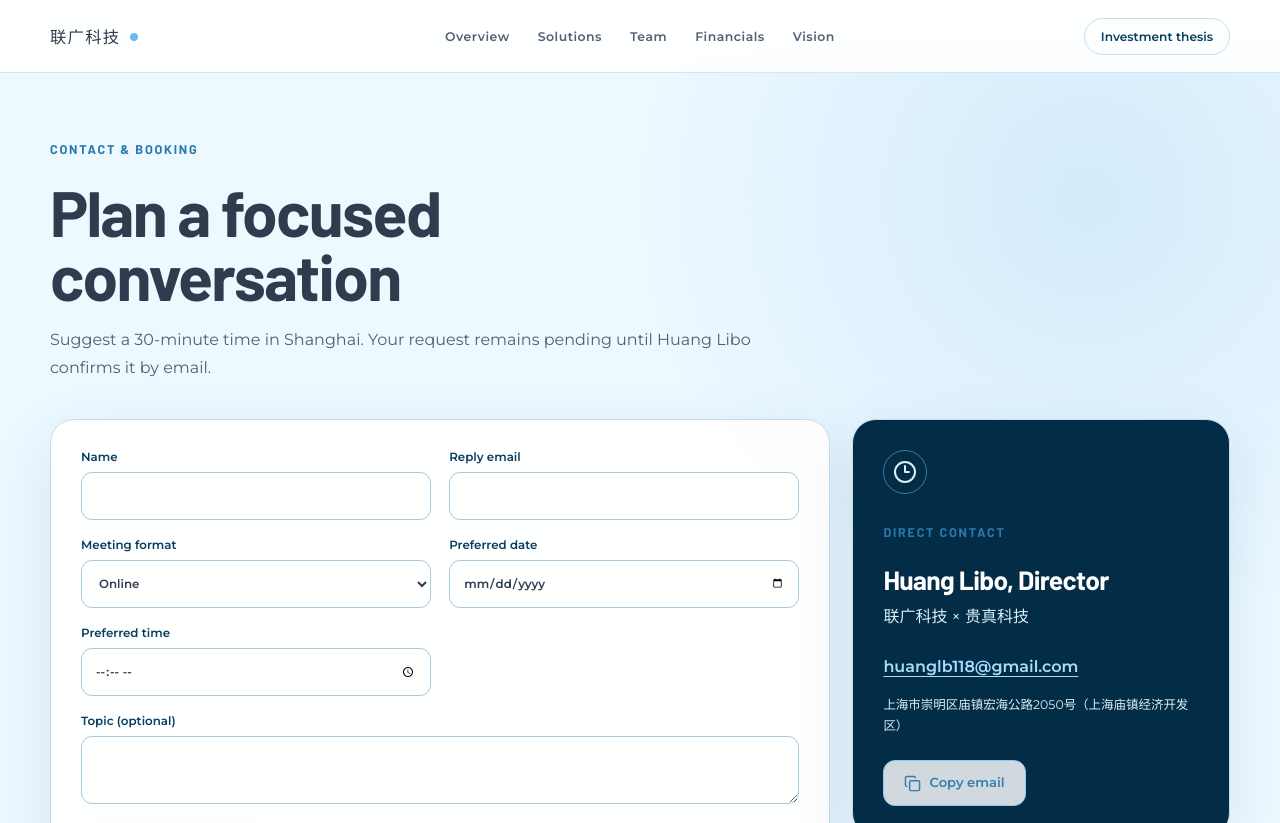
Scenario: site interactions › reports that an email handoff remains pending confirmation
The width and height of the screenshot is (1280, 823).
(page scrolled)
In the field labelled "Name": (256, 496) [81, 472, 431, 520], type "Ada Lovelace"
In the field labelled "Reply email": (624, 496) [449, 472, 799, 520], type "ada@example.com"
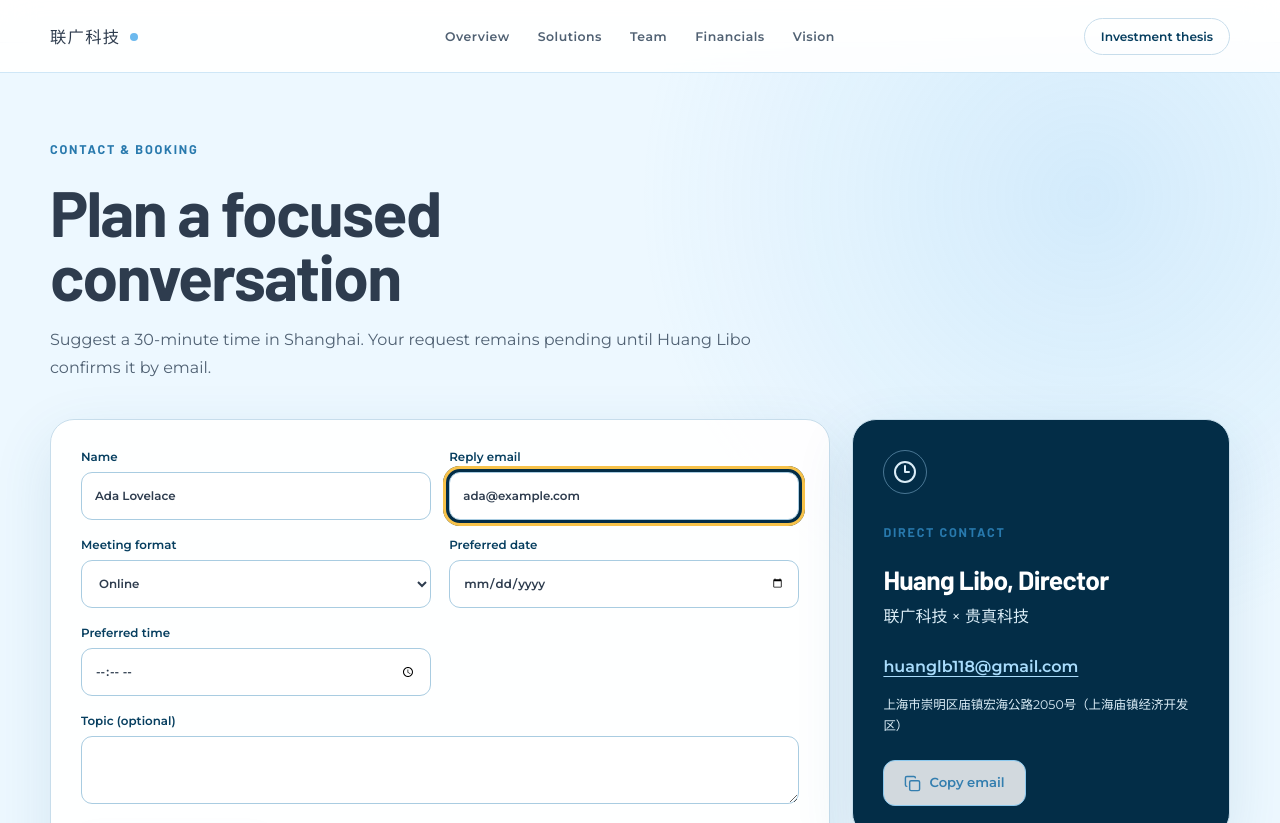
Select "In person · Shanghai Chongming" in the dropdown labelled "Meeting format": (256, 584) [81, 560, 431, 608]
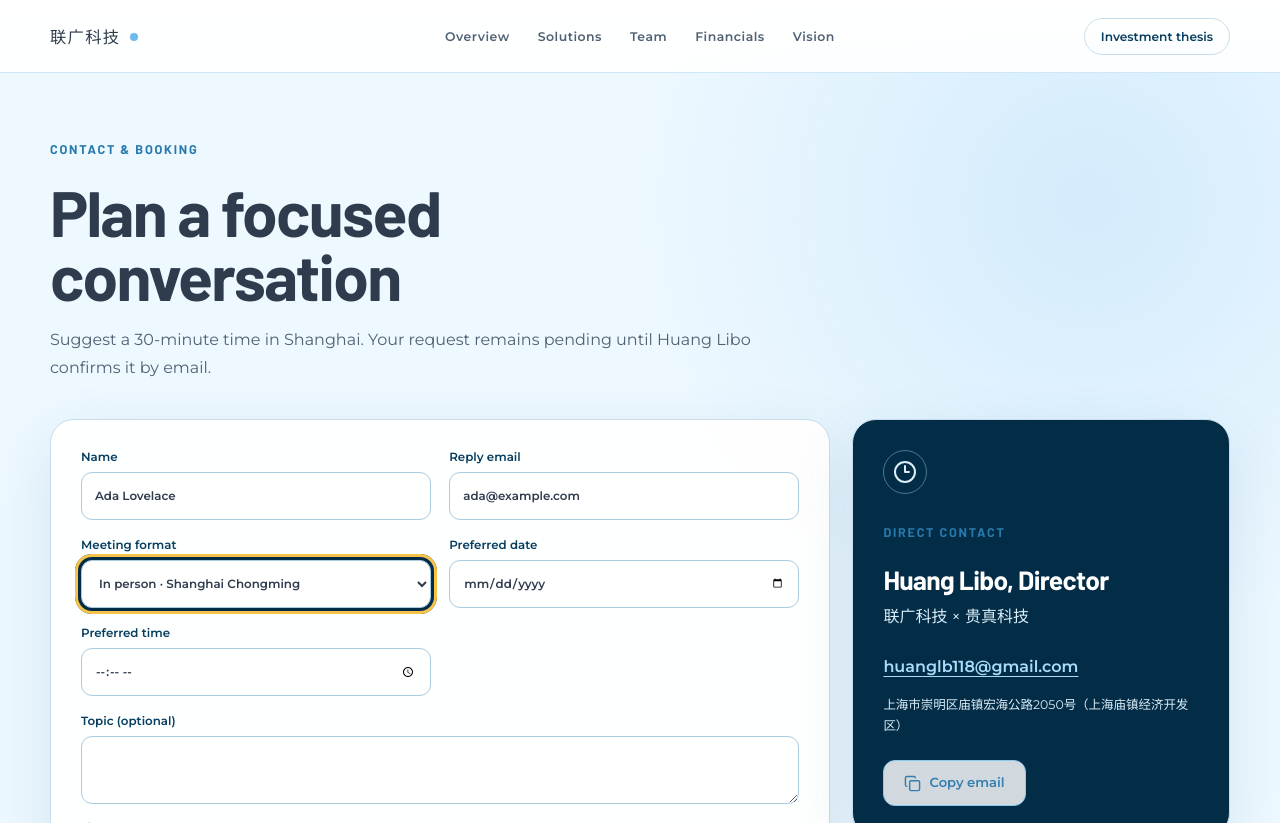
In the date field labelled "Preferred date": (624, 584) [449, 560, 799, 608], type "2099-08-20"
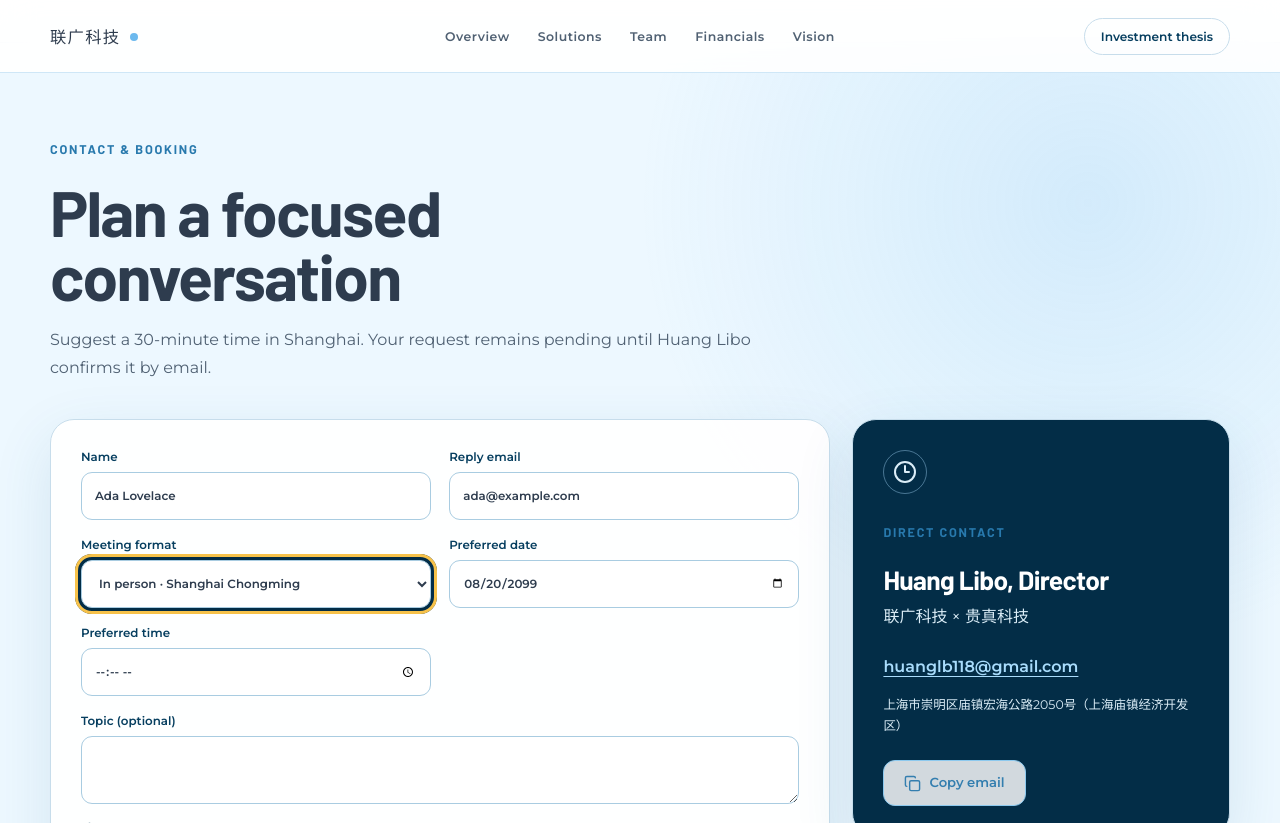
In the time field labelled "Preferred time": (256, 672) [81, 648, 431, 696], type "14:30"
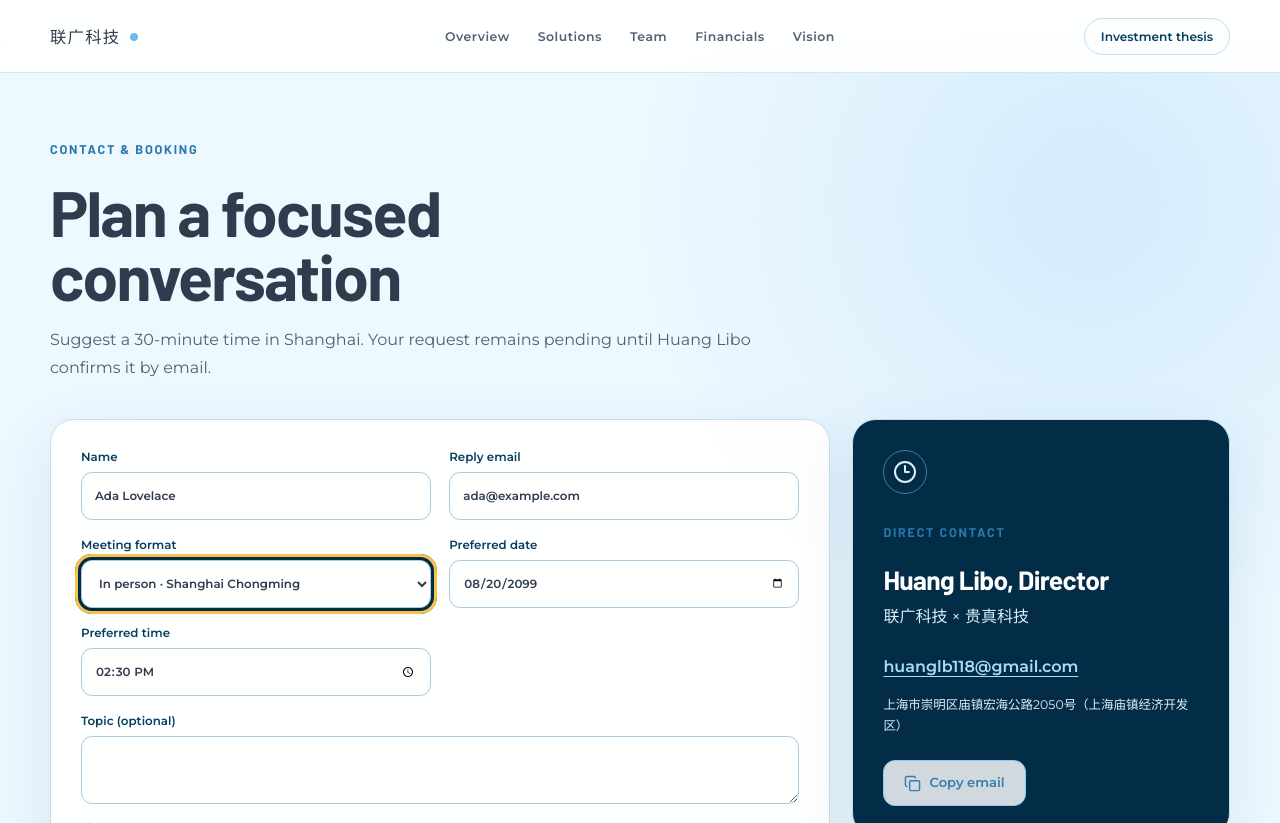
In the text box labelled "Topic (optional)": (440, 770) [81, 736, 799, 804], type "Compute partnership"
(page scrolled)
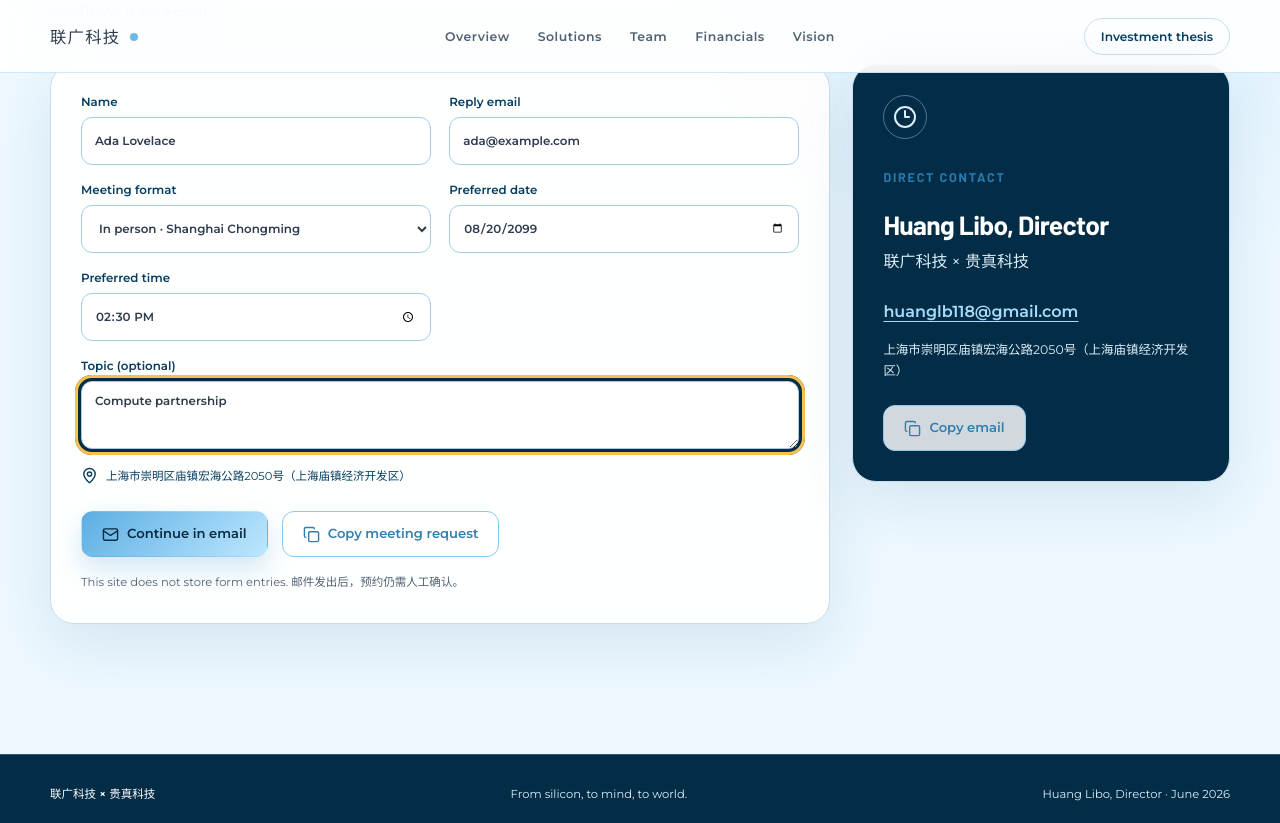
Click the link "Continue in email": (174, 534) [81, 511, 268, 557]
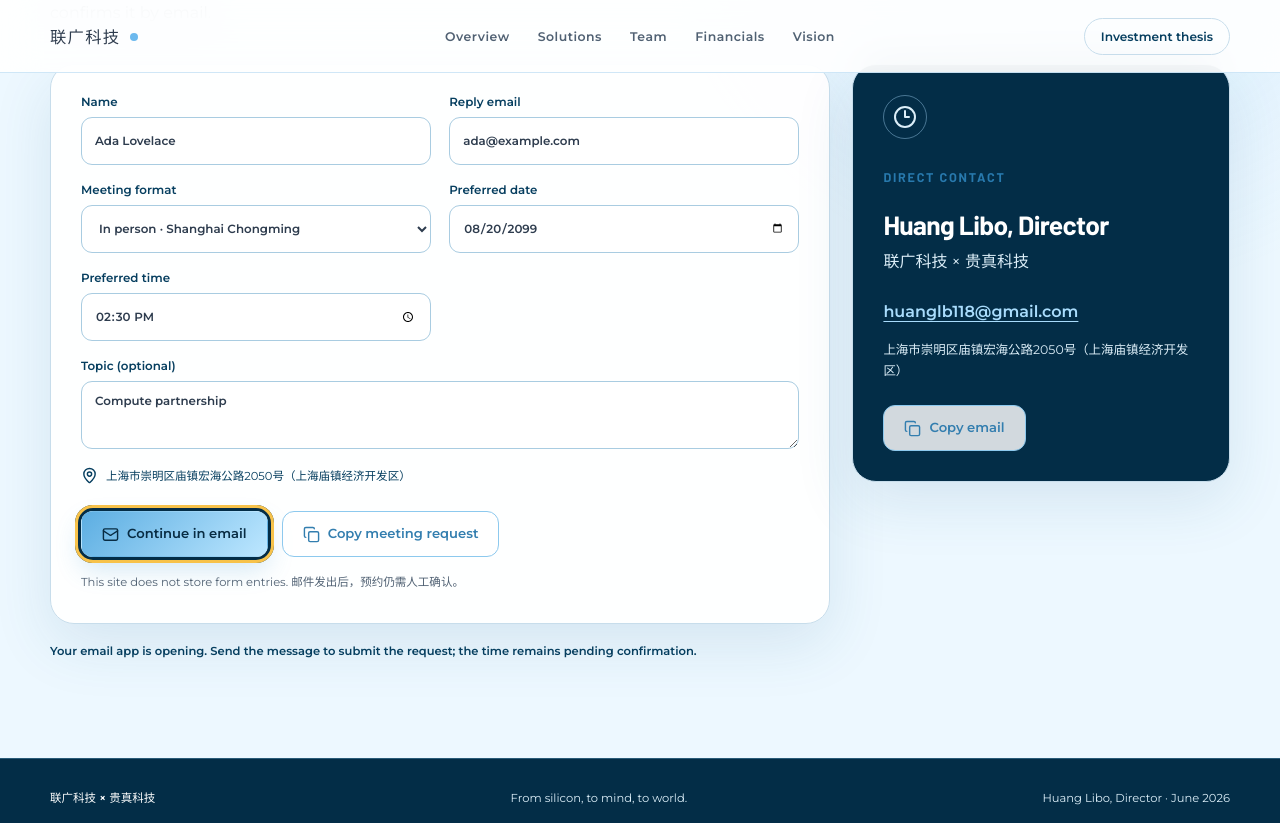
Expected: the message shows "remains pending confirmation", [50, 644, 697, 658]
